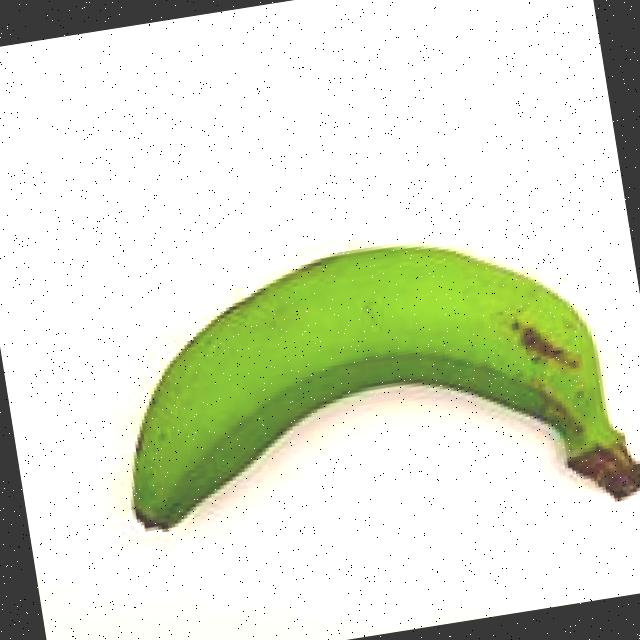Raw: (79, 168, 640, 619)
